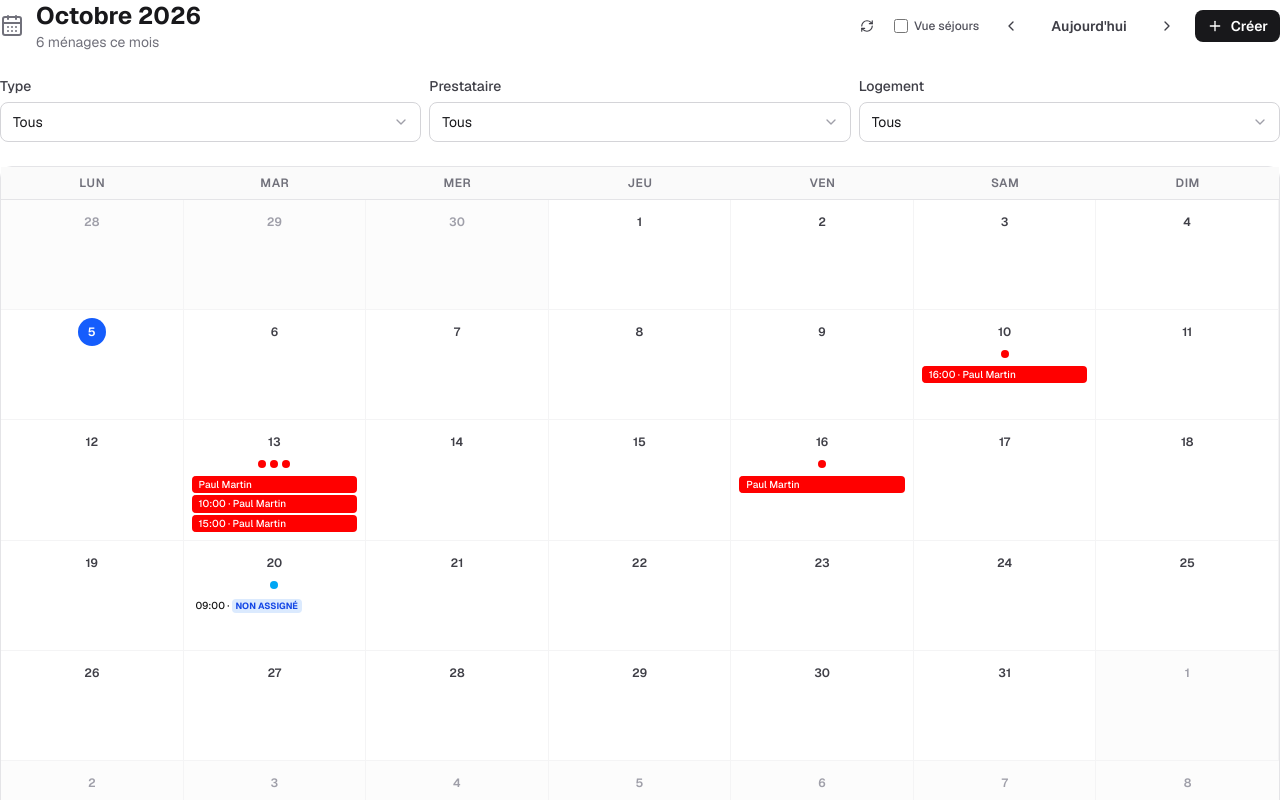
Test: Calendrier — vue classique › les flèches changent de mois et « Aujourd'hui » revient
Expected: the text "6 ménages ce mois" is shown, [36,33,159,51]
Click the 4th button: [1167, 26] box [1147,10,1187,42]
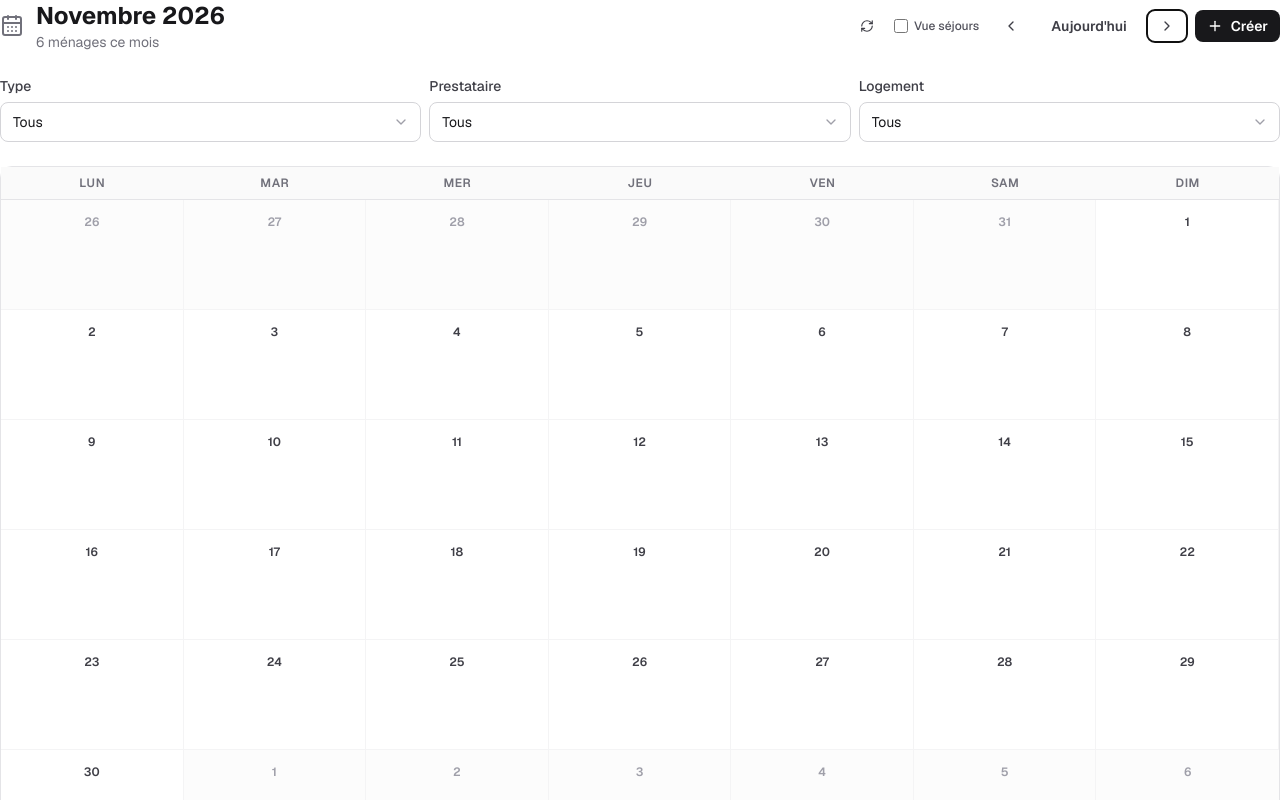
Result: the heading "novembre 2026" is shown at [36,0,225,32]
Click the button "Aujourd'hui": [1089, 26] box [1039,10,1139,42]
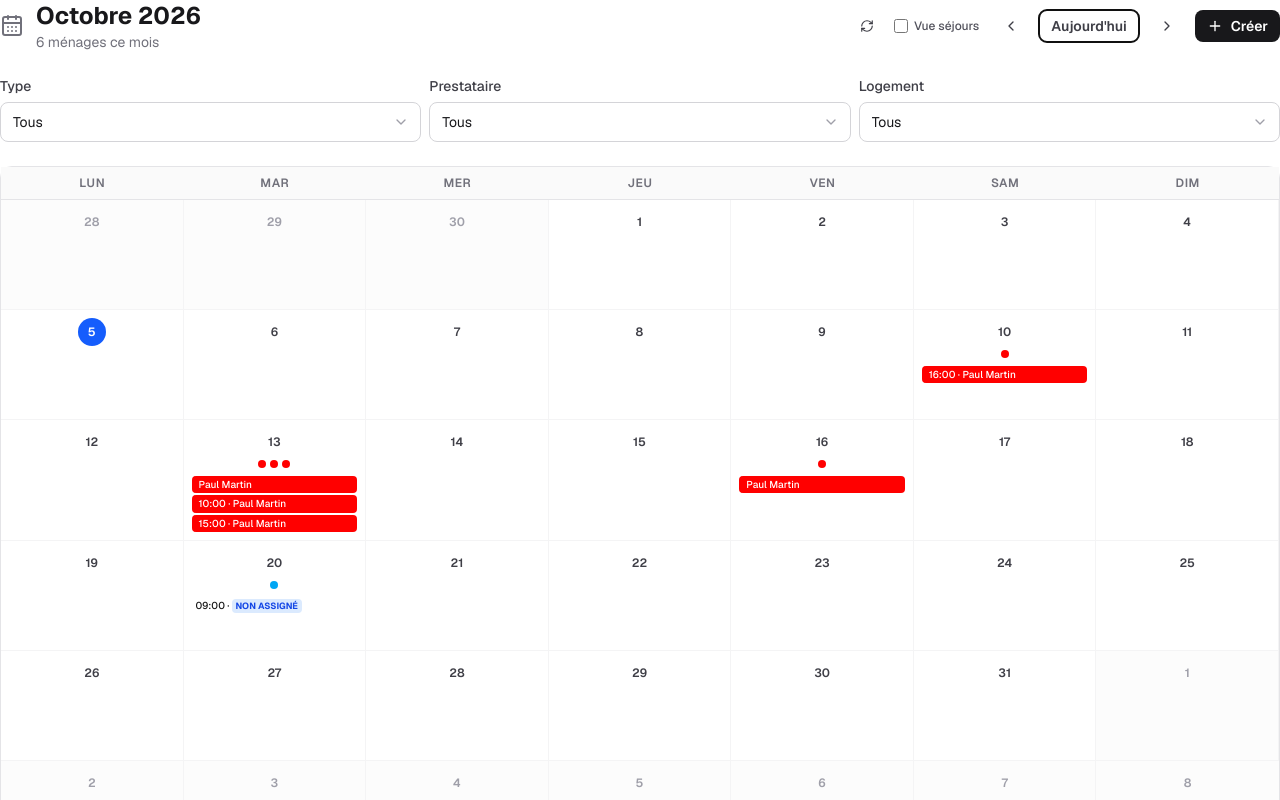
Result: the heading "octobre 2026" is shown at [36,0,201,32]
